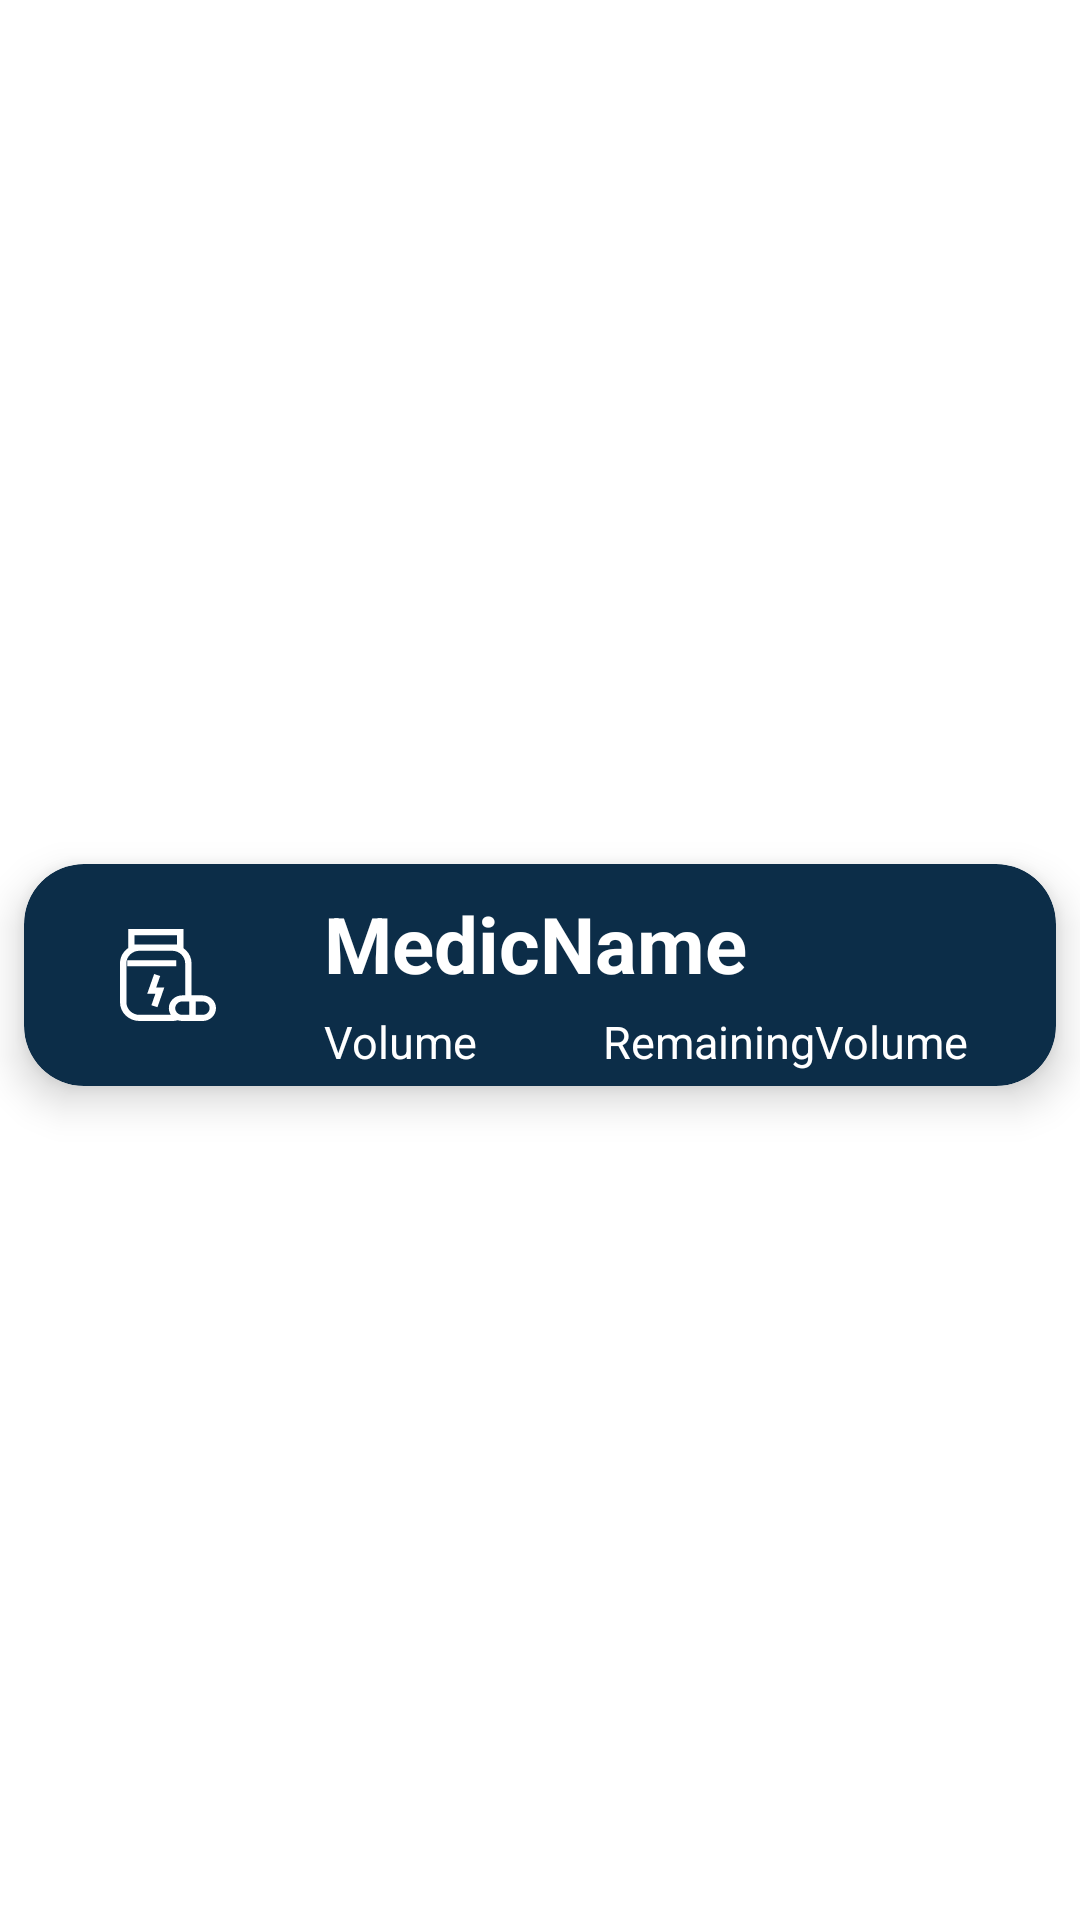

Icon click points for this 1080 × 1920 phone screenshot, format [x,y]:
energy pill: [168,975]
